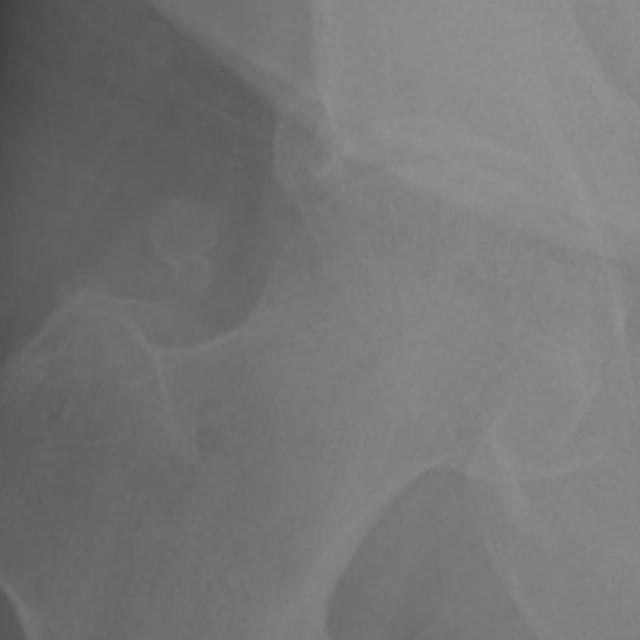Fitted_femural_head: (334, 166, 432, 334)
